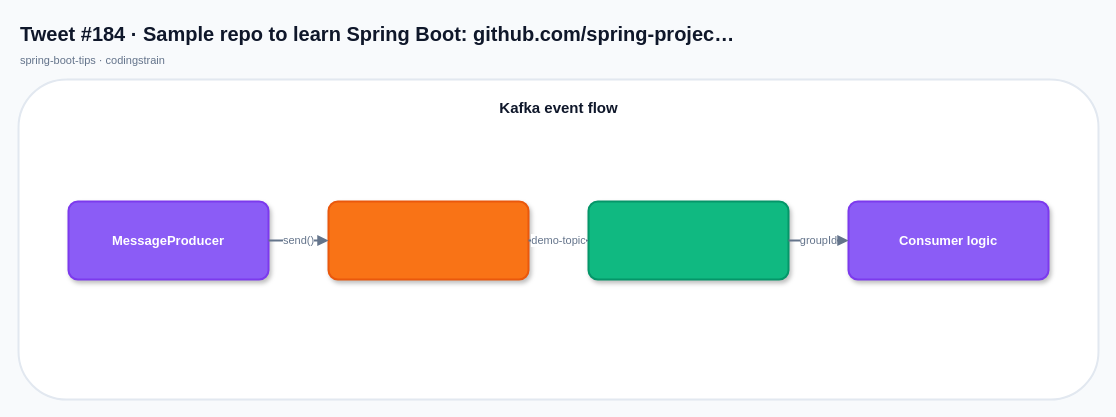
Image size: 1116x417. Some labels were removed from this diagram. Each missing label, with the centre of its shape:
"@KafkaListener" belongs at (x=689, y=241).
"Kafka Topic" belongs at (x=429, y=241).
